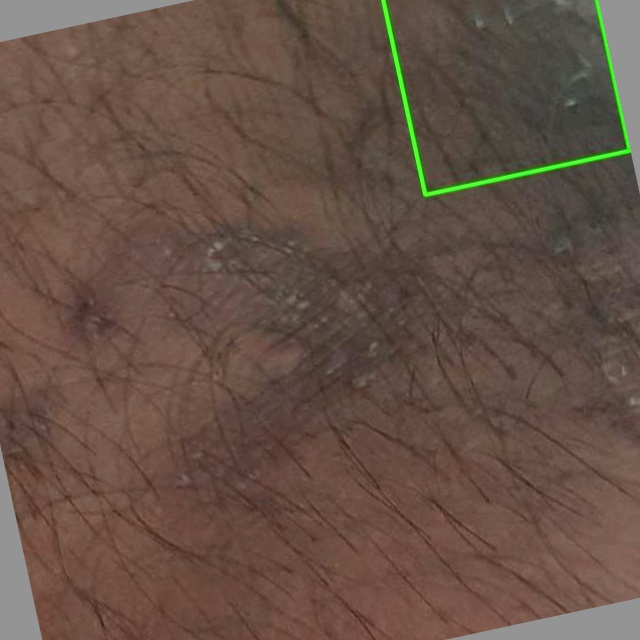Tinea Corporis: (383, 0, 629, 195)
